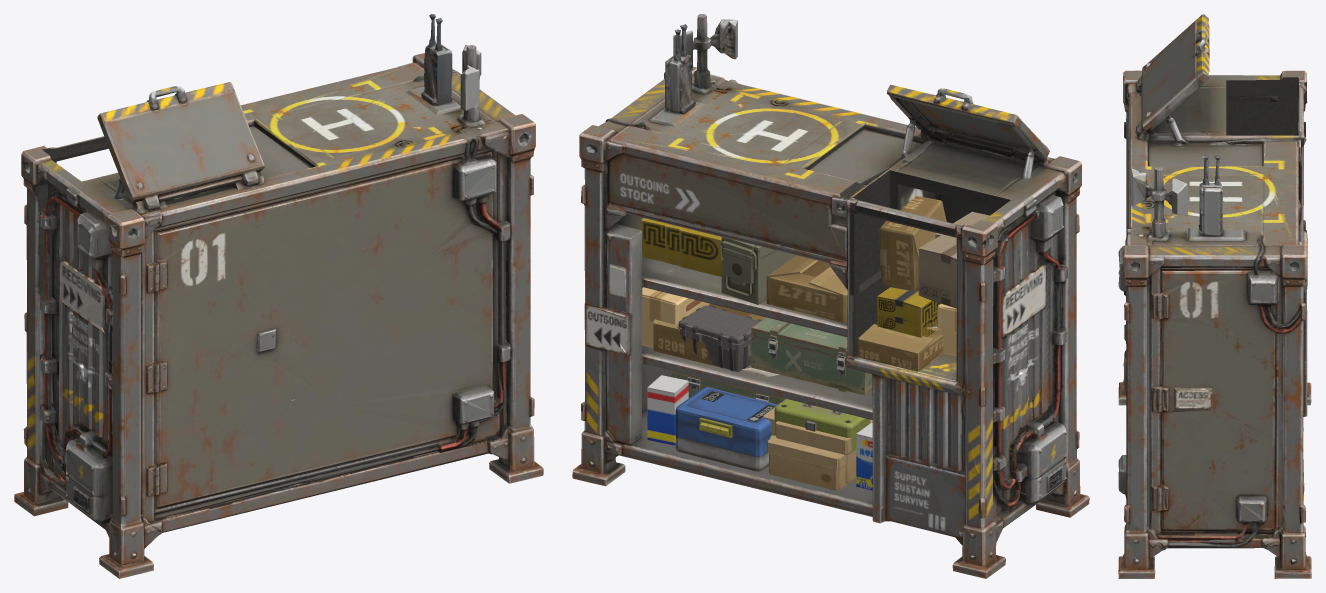
File: P_DroneDepot_001.obj
The picture shows the model from 3 angles, left to right: view 1: azimuth 30°, elevation 25°; view 2: azimuth 150°, elevation 25°; view 3: azimuth 270°, elevation 25°; orthographic projection. The views are drawn at different scales.
Bounding box in the file's own units: 2 × 1.94 × 0.8534.
Materials: 45 (45 with a texture image).
